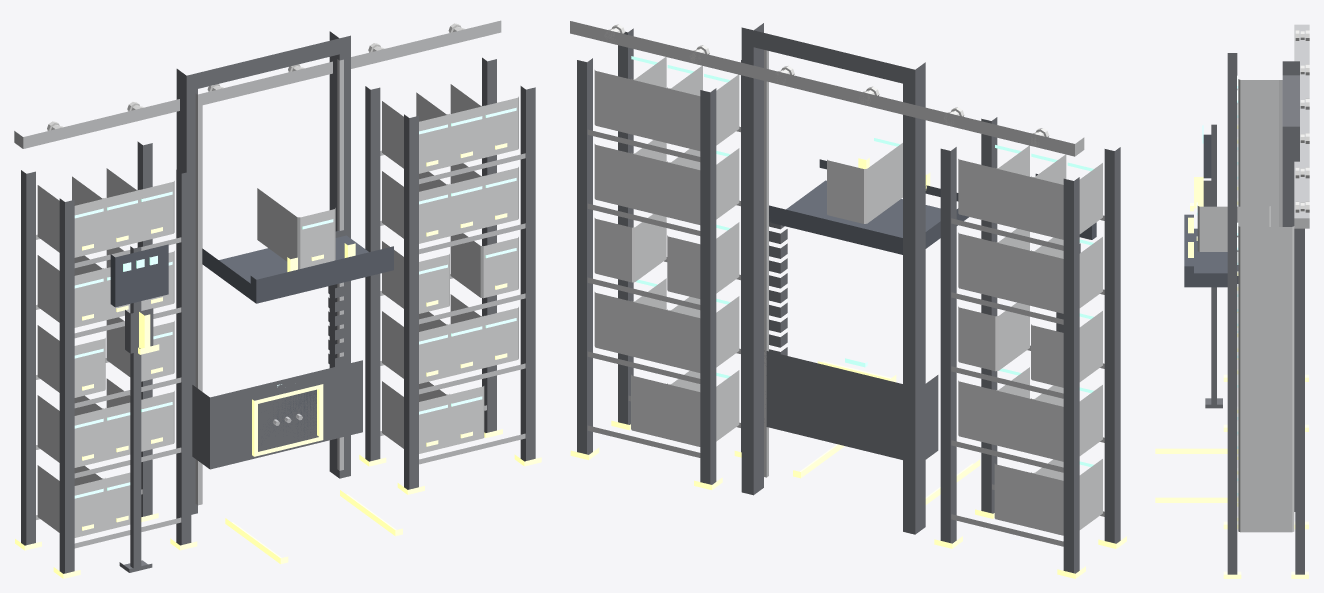
The model's file is iter_02.glb.
3 renders of one model, left to right at view 1: azimuth 30°, elevation 25°; view 2: azimuth 150°, elevation 25°; view 3: azimuth 270°, elevation 25°, orthographic. The views are drawn at different scales.
Visible parts, largest first — view 1: Cells_R, Cells_L, Rack_Posts_R, Rack_Posts_L, Port_Bridge, Swap_Mast, Swap_Carriage, Overhead_Busway, Mast_Rails, Cells_Carried, Tier_Rails_R, Panel_Post (+10 smaller); view 2: Cells_R, Cells_L, Swap_Mast, Rack_Posts_L, Rack_Posts_R, Port_Bridge, Overhead_Busway, Swap_Carriage, Cells_Carried, Tier_Rails_R, Tier_Rails_L, Mast_Rails (+3 smaller); view 3: Cells_R, Rack_Posts_R, Cells_L, Swap_Mast, Overhead_Busway, Cells_Carried, Swap_Carriage, Rack_Posts_L, Panel_Post, Guide_Rails, Standoffs, Mast_Rails (+5 smaller).
Part boxes in pixels (left/top/right/bottom): Cells_R: left=382, top=84, right=518, bottom=453; Cells_L: left=37, top=168, right=174, bottom=537; Rack_Posts_R: left=365, top=57, right=535, bottom=489; Rack_Posts_L: left=21, top=141, right=191, bottom=573; Port_Bridge: left=192, top=360, right=362, bottom=469; Swap_Mast: left=176, top=31, right=350, bottom=514; Swap_Carriage: left=202, top=230, right=393, bottom=303; Overhead_Busway: left=14, top=20, right=501, bottom=148; Mast_Rails: left=195, top=59, right=343, bottom=505; Cells_Carried: left=257, top=188, right=335, bottom=269; Tier_Rails_R: left=380, top=150, right=525, bottom=464; Panel_Post: left=119, top=246, right=152, bottom=572; Cells_R: left=594, top=57, right=739, bottom=446; Cells_L: left=958, top=145, right=1102, bottom=535; Swap_Mast: left=741, top=23, right=925, bottom=534; Rack_Posts_L: left=940, top=117, right=1120, bottom=573; Rack_Posts_R: left=577, top=28, right=741, bottom=484; Port_Bridge: left=764, top=350, right=938, bottom=459; Overhead_Busway: left=570, top=21, right=1084, bottom=156; Swap_Carriage: left=769, top=159, right=968, bottom=254; Cells_Carried: left=827, top=143, right=902, bottom=223; Tier_Rails_R: left=587, top=126, right=740, bottom=457; Tier_Rails_L: left=951, top=215, right=1104, bottom=546; Mast_Rails: left=764, top=50, right=768, bottom=477; Cells_R: left=1238, top=226, right=1294, bottom=532; Rack_Posts_R: left=1227, top=200, right=1304, bottom=574; Cells_L: left=1238, top=79, right=1278, bottom=226; Swap_Mast: left=1282, top=61, right=1299, bottom=511; Overhead_Busway: left=1294, top=24, right=1309, bottom=228; Cells_Carried: left=1197, top=206, right=1270, bottom=251; Swap_Carriage: left=1184, top=214, right=1238, bottom=287; Rack_Posts_L: left=1227, top=53, right=1237, bottom=199; Panel_Post: left=1205, top=124, right=1222, bottom=408; Guide_Rails: left=1155, top=448, right=1238, bottom=502; Standoffs: left=1295, top=30, right=1309, bottom=212; Mast_Rails: left=1279, top=80, right=1282, bottom=226.
Size of the model in its own units: 2.5 by 2.2 by 0.8.
